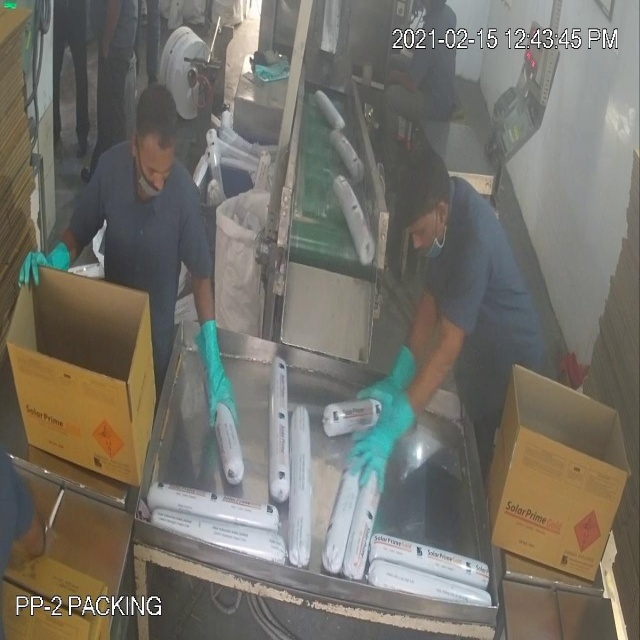Guantes: (338, 393, 427, 500), (186, 302, 240, 433), (11, 241, 80, 297)
Sin_guantes: (371, 54, 420, 111)
